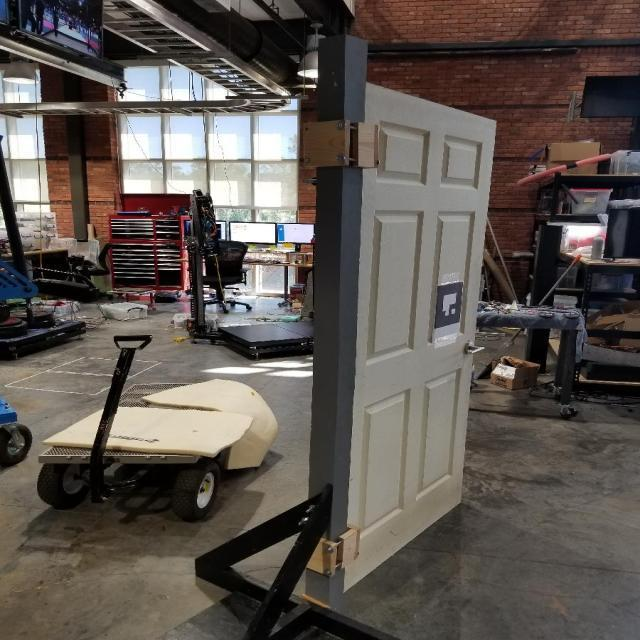door: (334, 80, 500, 594), (462, 342, 484, 359)
